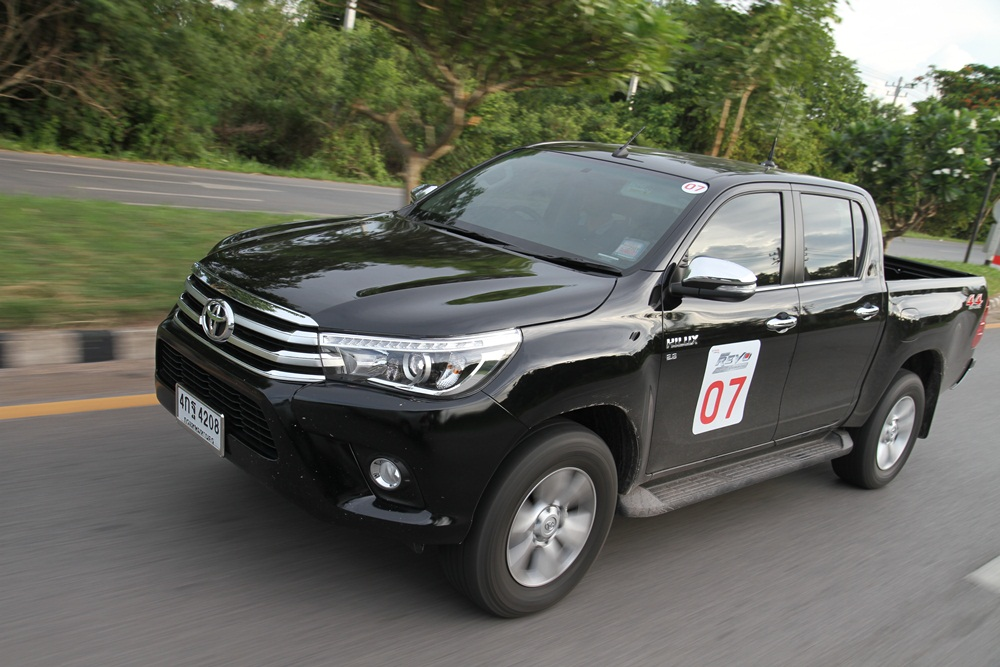pickup: (151, 139, 988, 619)
